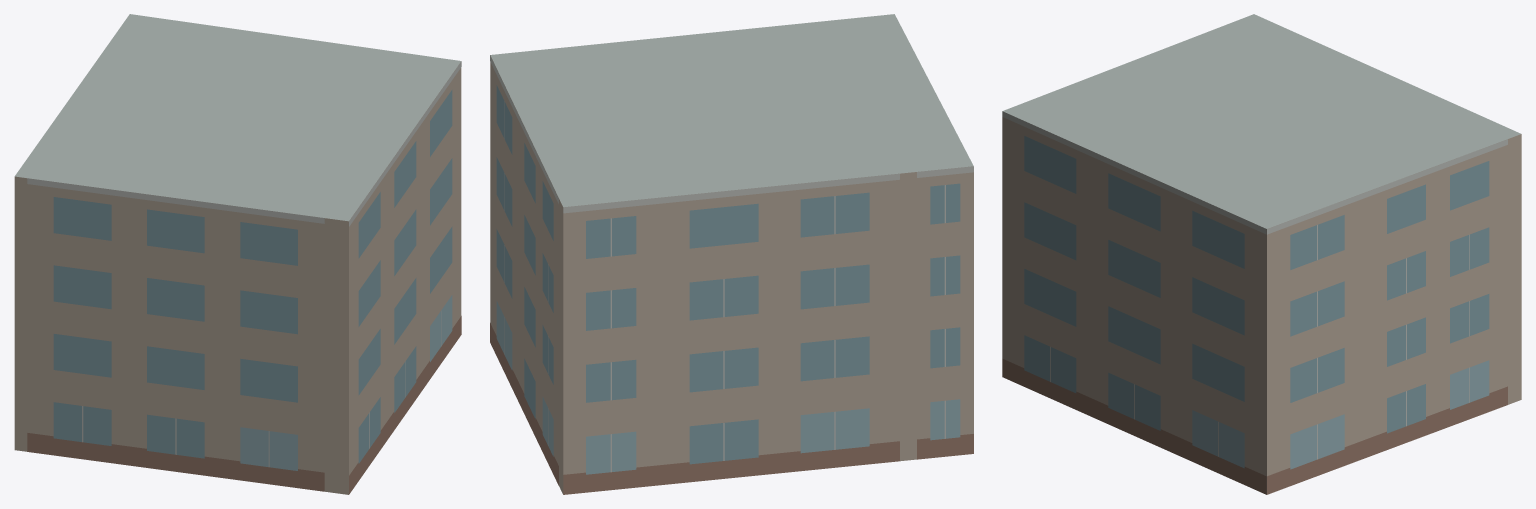
Rendered from survey-upis-33043247.glb.
3 renders of one model, left to right at view 1: azimuth 30°, elevation 25°; view 2: azimuth 150°, elevation 25°; view 3: azimuth 270°, elevation 25°, orthographic. The views are drawn at different scales.
Visible parts, largest first — view 1: survey-upis-33043247.tmp; view 2: survey-upis-33043247.tmp; view 3: survey-upis-33043247.tmp.
Part boxes in pixels (left/top/right/bottom): survey-upis-33043247.tmp: left=14, top=14, right=461, bottom=494; survey-upis-33043247.tmp: left=490, top=14, right=973, bottom=494; survey-upis-33043247.tmp: left=1002, top=14, right=1521, bottom=494.
Size of the model in its own units: 19.78 by 11.4 by 20.19.
